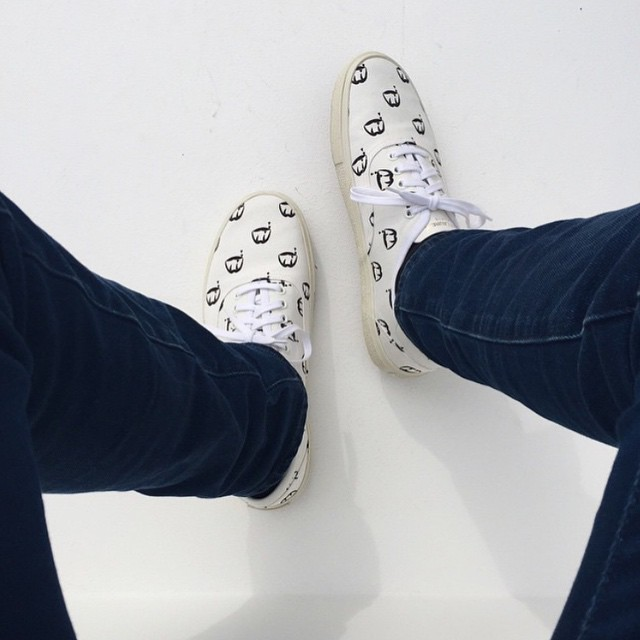sneaker: (314, 41, 493, 386), (190, 174, 331, 526)
